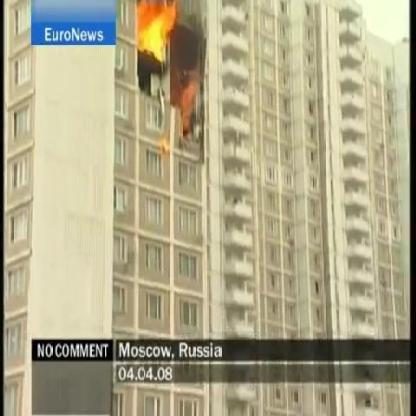fire: (136, 3, 178, 64), (182, 77, 197, 136)
